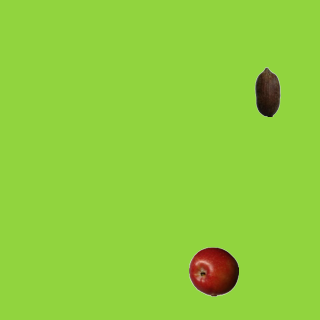Apple Braeburn: (188, 246, 238, 296)
Nut Pecan: (242, 66, 292, 116)
